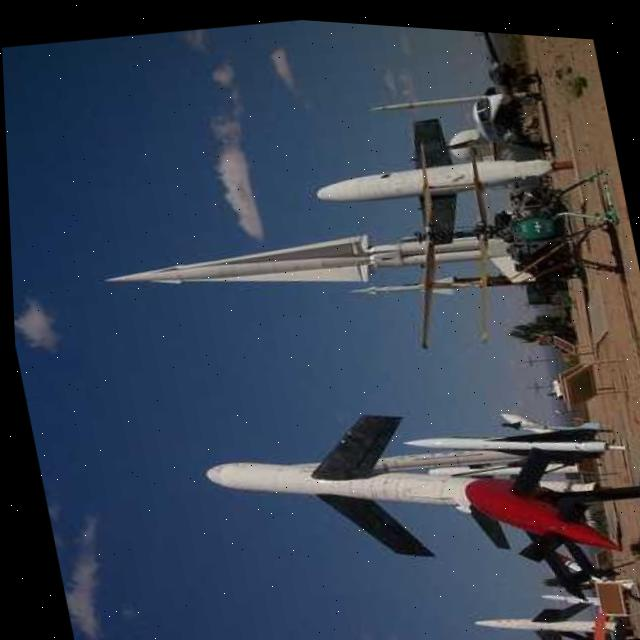missile: (178, 369, 544, 601), (86, 170, 556, 346), (296, 90, 576, 261), (451, 564, 640, 640)
